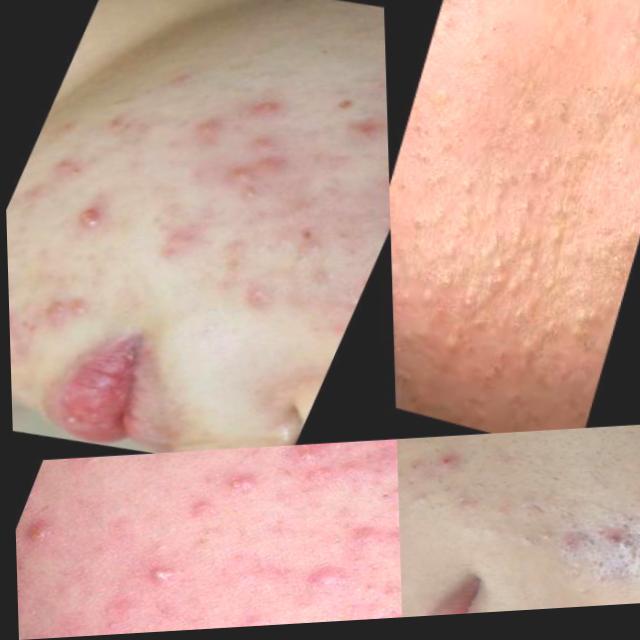8: (272, 554, 360, 613), (312, 513, 391, 569), (324, 116, 387, 157), (20, 294, 75, 330), (254, 149, 300, 185), (429, 450, 467, 482)
9: (54, 191, 125, 249), (290, 558, 357, 609), (125, 551, 192, 599), (207, 462, 266, 510), (12, 509, 62, 564), (240, 91, 289, 133), (223, 165, 261, 193), (234, 186, 266, 208)
blackheads: (588, 528, 639, 569), (266, 446, 330, 473), (628, 547, 640, 582)
dark spot: (386, 105, 468, 257), (453, 11, 525, 96), (467, 340, 521, 406), (488, 161, 550, 215), (542, 0, 618, 29), (564, 78, 617, 119), (501, 532, 540, 562), (394, 459, 425, 487)
